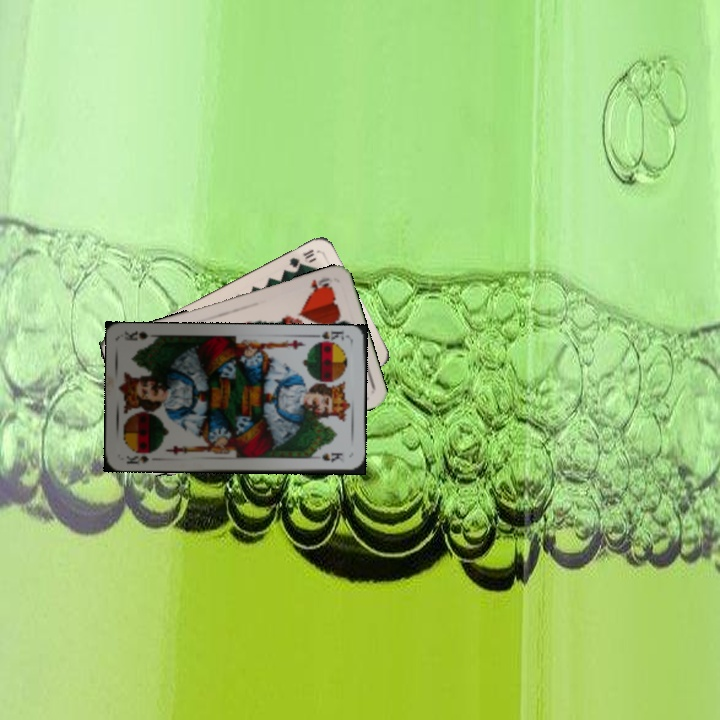G10: (285, 245, 317, 270)
HO: (305, 273, 334, 296)
SK: (309, 328, 347, 348), (122, 452, 152, 466)
